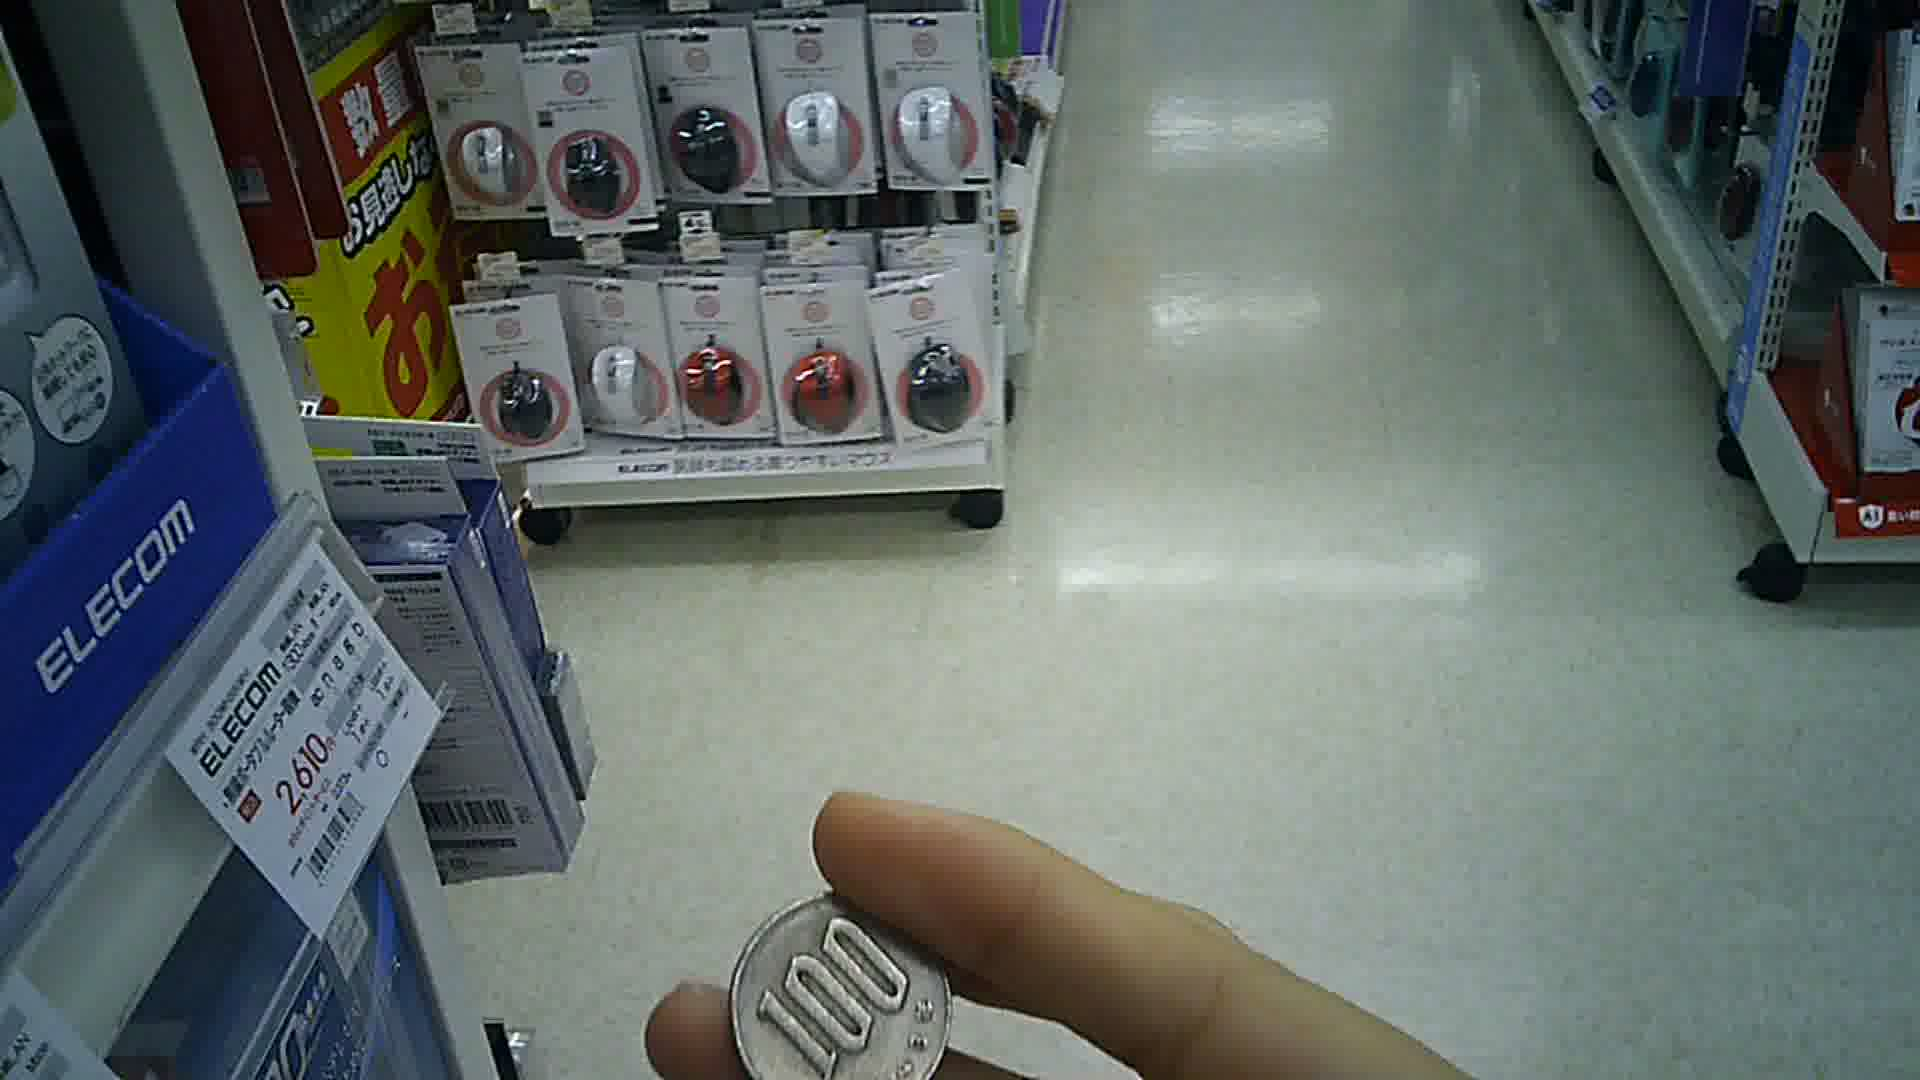100 Yen: (723, 880, 964, 1079)
